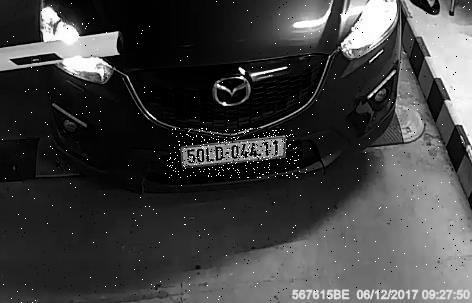License-plate: (170, 130, 301, 180)
